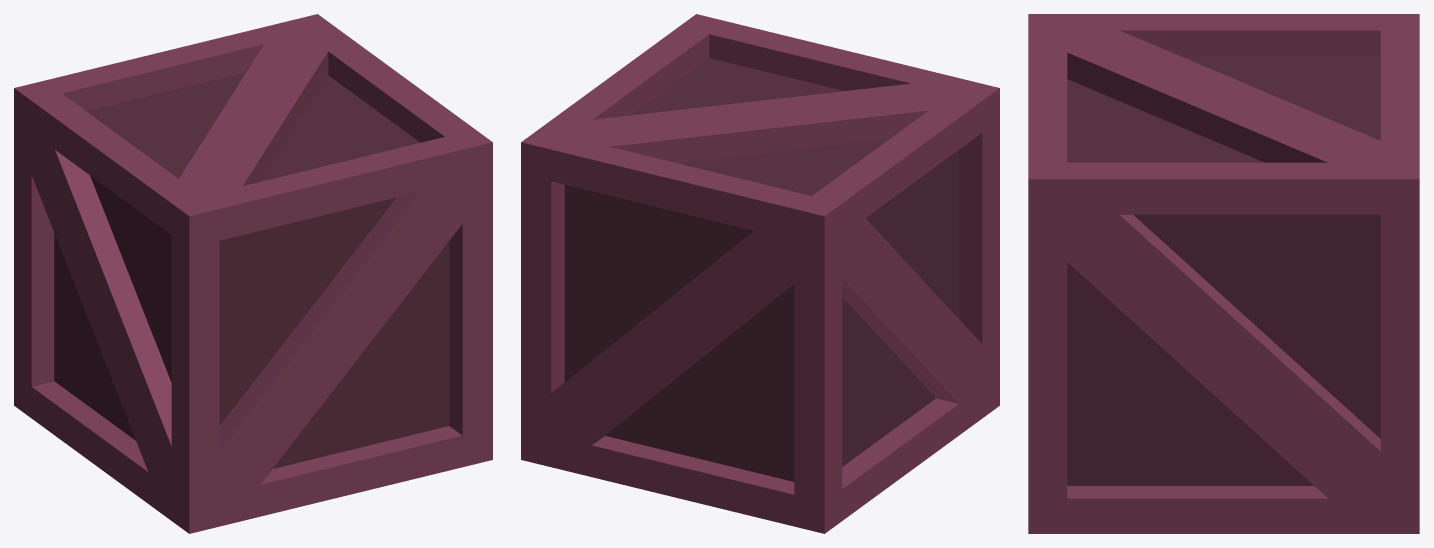
Rendered from Crate.fbx.
3 renders of one model, left to right at view 1: azimuth 30°, elevation 25°; view 2: azimuth 150°, elevation 25°; view 3: azimuth 270°, elevation 25°, orthographic. The views are drawn at different scales.
Visible parts, largest first — view 1: Crate.001; view 2: Crate.001; view 3: Crate.001.
Part boxes in pixels (left/top/right/bottom): Crate.001: left=14, top=14, right=492, bottom=533; Crate.001: left=521, top=14, right=999, bottom=533; Crate.001: left=1028, top=14, right=1419, bottom=533.
Bounding box in the file's own units: 1.35 × 1.35 × 1.35.
